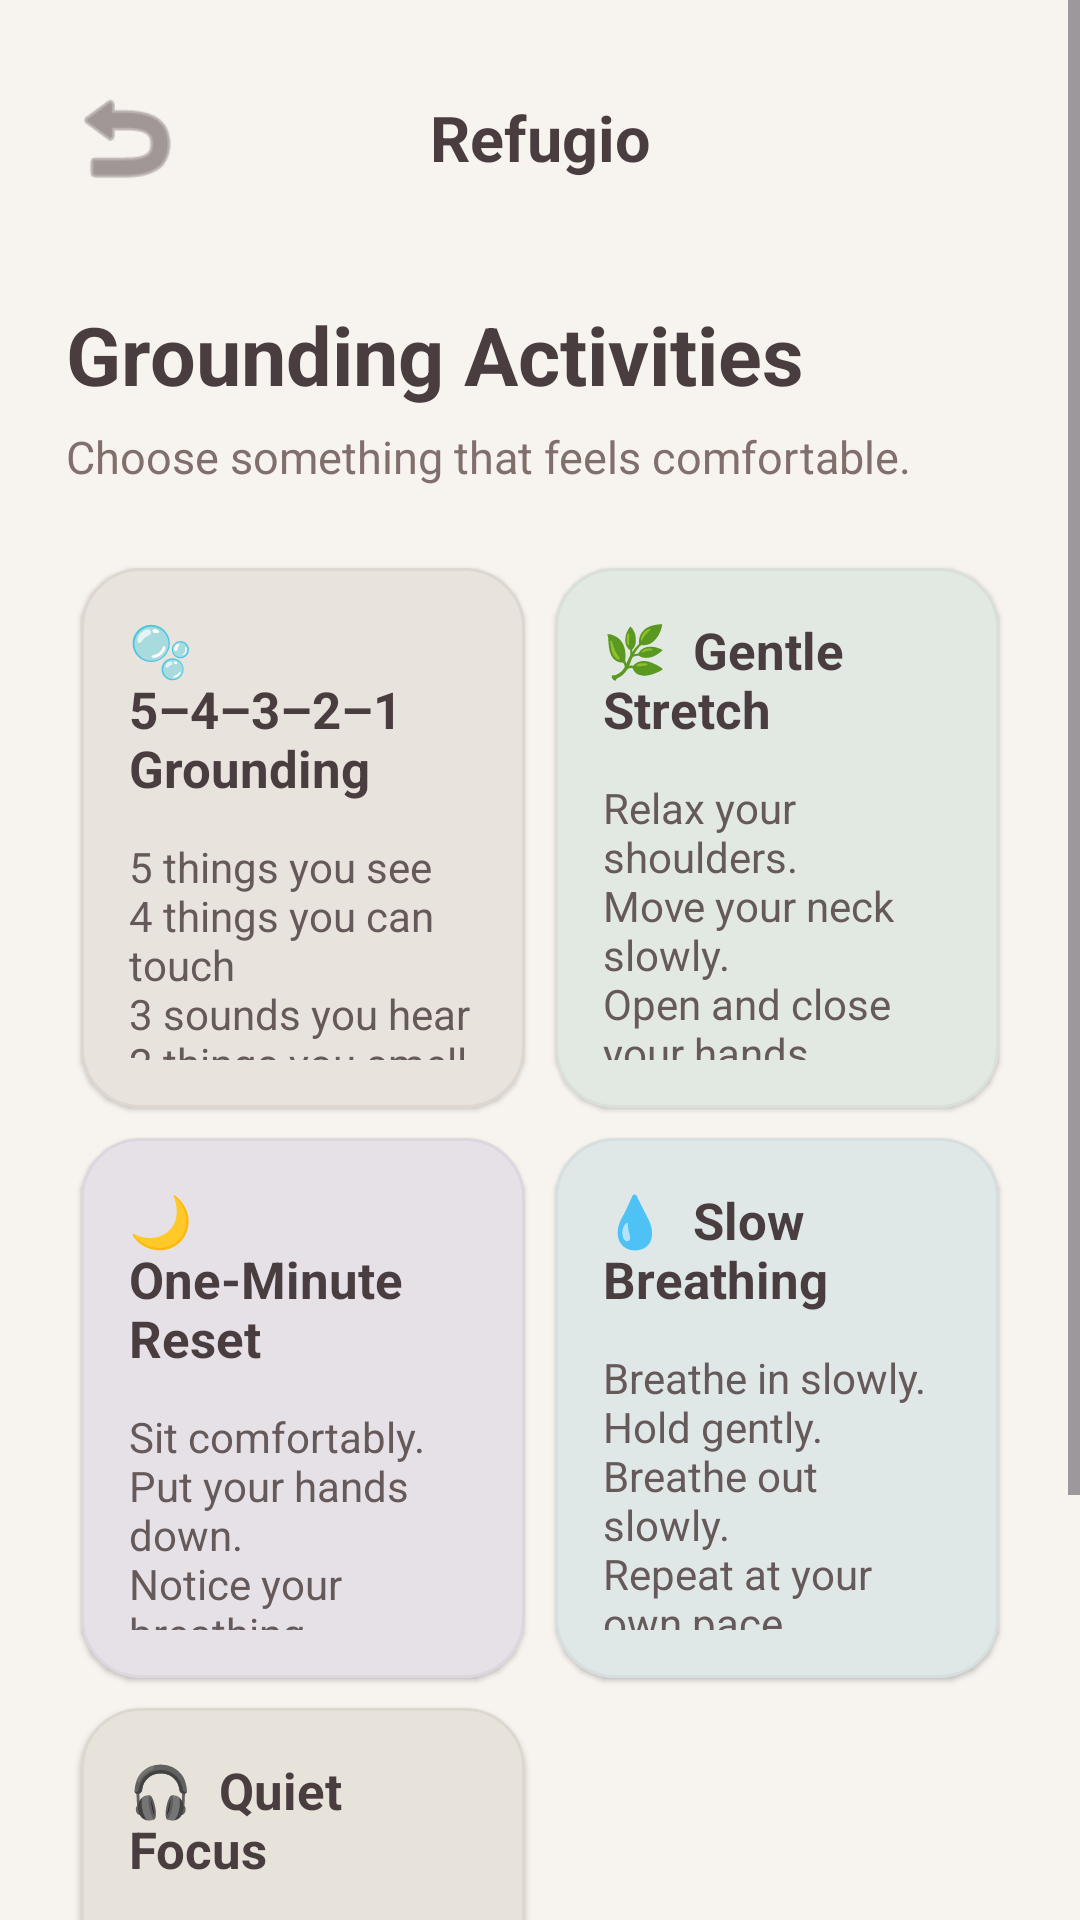

Locate icon controls on the screen. Image size 1080 x 1920, boxes as {"left": x1, "top": y1, "right": x2, "bottom": y2}.
Back: {"left": 85, "top": 100, "right": 171, "bottom": 178}
